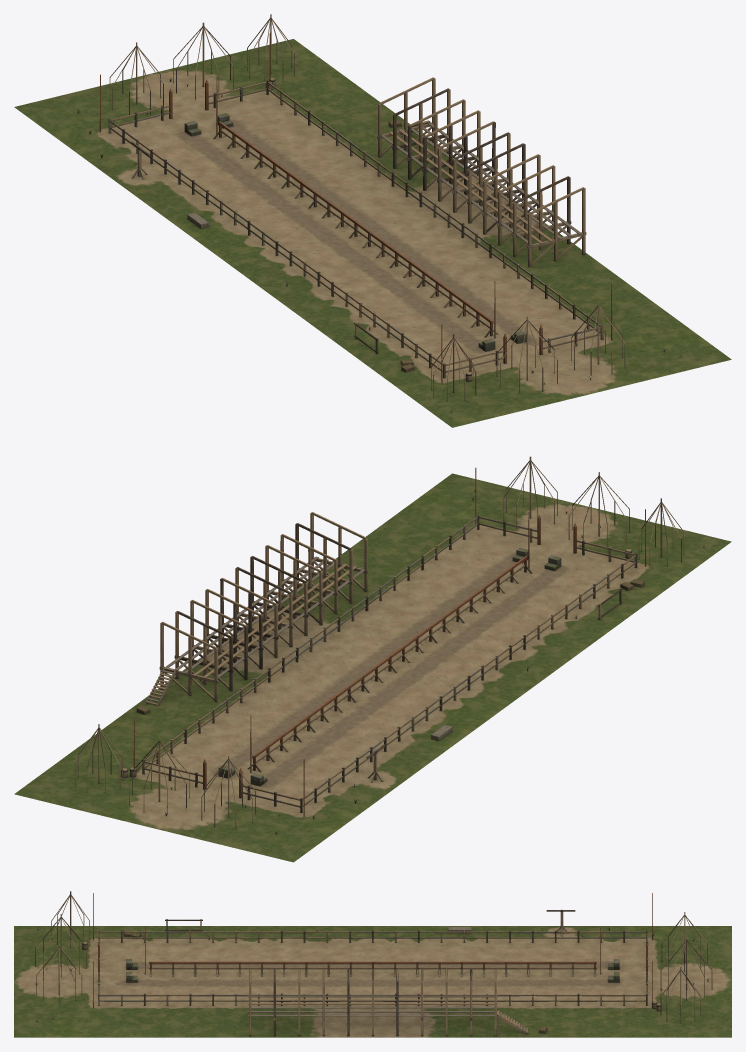
The model's file is lists_build2.glb.
The picture shows the model from 3 angles, top to bottom: view 1: azimuth 30°, elevation 25°; view 2: azimuth 150°, elevation 25°; view 3: azimuth 270°, elevation 25°; orthographic projection. The views are drawn at different scales.
Visible parts, largest first — view 1: lists_build2_LOD0; view 2: lists_build2_LOD0; view 3: lists_build2_LOD0.
Part boxes in pixels (<box>): lists_build2_LOD0: <box>14,14,731,427</box>; lists_build2_LOD0: <box>14,456,731,862</box>; lists_build2_LOD0: <box>14,891,731,1037</box>.
Size of what is drawn, in the model's own units: 28 by 6.49 by 76.
1 material, 1 textured.
